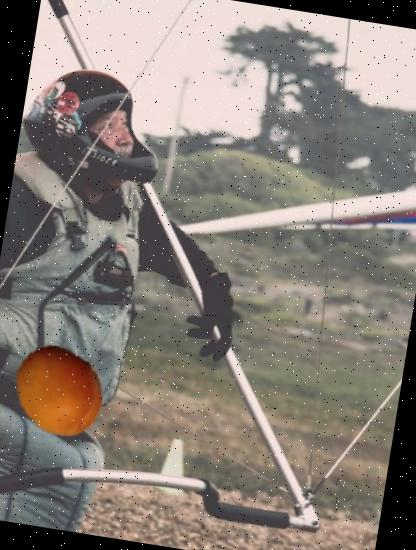Apricot: (4, 336, 116, 448)
